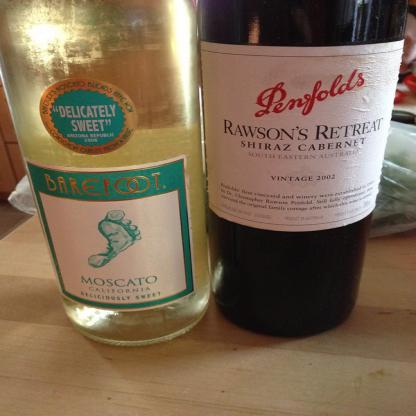drinking: (0, 0, 212, 346), (197, 0, 409, 337)
